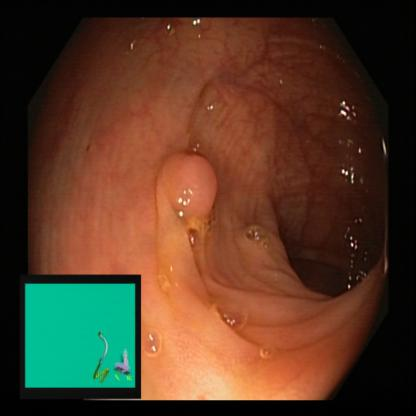Labels: (22, 277, 142, 397)
Polyps: (155, 148, 222, 230)
